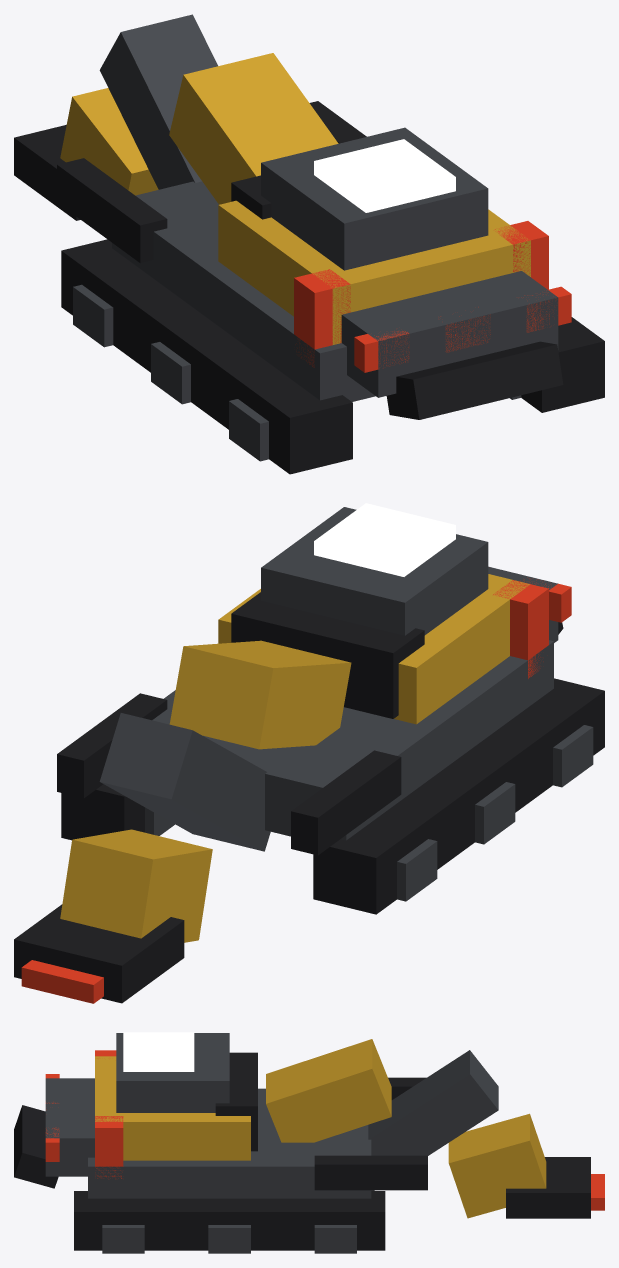
File: excavator.glb
The picture shows the model from 3 angles, top to bottom: view 1: azimuth 30°, elevation 25°; view 2: azimuth 150°, elevation 25°; view 3: azimuth 270°, elevation 25°; orthographic projection. The views are drawn at different scales.
Parts seen in each view (by area): view 1: P00_Track, P09_Yellow, P10_Steel, P08_Steel, P23_Steel, P15_Yellow, P16_Steel, P24_Track, P12_Lamp, P21_Track, P17_Yellow, P01_Track (+10 smaller); view 2: P00_Track, P08_Steel, P15_Yellow, P10_Steel, P16_Steel, P17_Yellow, P09_Yellow, P11_Track, P18_Track, P12_Lamp, P21_Track, P22_Track (+8 smaller); view 3: P01_Track, P08_Steel, P15_Yellow, P16_Steel, P09_Yellow, P17_Yellow, P10_Steel, P23_Steel, P22_Track, P18_Track, P12_Lamp, P24_Track (+8 smaller).
Part boxes in pixels (x1,y1,x2,y2): P00_Track: (61, 239, 352, 474); P09_Yellow: (218, 200, 530, 344); P10_Steel: (261, 127, 488, 270); P08_Steel: (112, 181, 375, 401); P23_Steel: (341, 271, 558, 397); P15_Yellow: (169, 53, 338, 204); P16_Steel: (99, 14, 217, 189); P24_Track: (386, 341, 563, 419); P12_Lamp: (314, 139, 455, 212); P21_Track: (57, 158, 167, 262); P17_Yellow: (60, 88, 158, 195); P01_Track: (521, 317, 604, 412); P00_Track: (313, 678, 604, 914); P08_Steel: (152, 640, 553, 840); P15_Yellow: (169, 640, 351, 749); P10_Steel: (261, 507, 488, 635); P16_Steel: (99, 713, 270, 851); P17_Yellow: (60, 829, 212, 942); P09_Yellow: (218, 574, 529, 724); P11_Track: (231, 592, 424, 718); P18_Track: (14, 904, 184, 1003); P12_Lamp: (314, 503, 455, 576); P21_Track: (291, 750, 401, 855); P22_Track: (57, 693, 167, 798); P01_Track: (74, 1191, 385, 1250); P08_Steel: (88, 1088, 371, 1198); P15_Yellow: (266, 1039, 391, 1142); P16_Steel: (368, 1050, 498, 1190); P09_Yellow: (95, 1056, 250, 1160); P17_Yellow: (448, 1113, 546, 1218); P10_Steel: (116, 1033, 229, 1112); P23_Steel: (45, 1078, 94, 1176); P22_Track: (314, 1155, 427, 1190); P18_Track: (506, 1157, 590, 1218); P12_Lamp: (123, 1032, 194, 1071); P24_Track: (14, 1105, 58, 1188).
Bounding box in the file's own units: 37 × 24.57 × 83.46.
